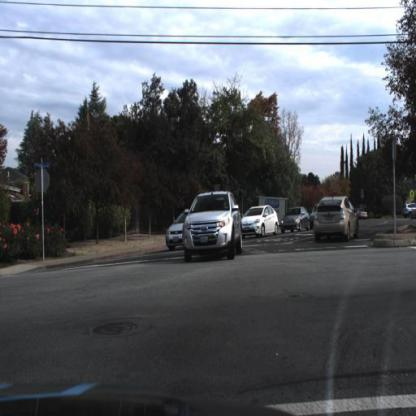car: (182, 188, 243, 263), (309, 190, 362, 252), (240, 204, 280, 236), (164, 211, 189, 251), (279, 205, 310, 232)
